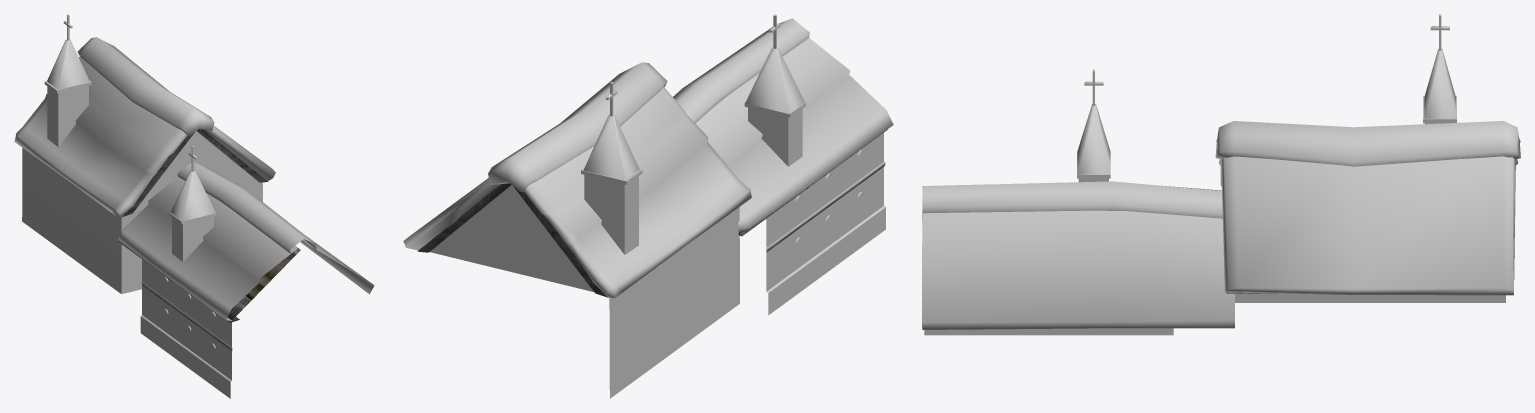
Rendered from fangzi_02.fbx.
The picture shows the model from 3 angles, left to right: view 1: azimuth 30°, elevation 25°; view 2: azimuth 150°, elevation 25°; view 3: azimuth 270°, elevation 25°; orthographic projection. The views are drawn at different scales.
Parts seen in each view (by area): view 1: xue1, qiang1, yancong, fangyan1; view 2: xue1, qiang1, yancong, fangyan1; view 3: xue1, qiang1, yancong.
Boxes of the visible parts, left/top/right/bottom form: xue1: left=14, top=14, right=374, bottom=381; qiang1: left=22, top=131, right=262, bottom=398; yancong: left=44, top=80, right=216, bottom=261; fangyan1: left=118, top=129, right=300, bottom=350; xue1: left=403, top=14, right=893, bottom=298; qiang1: left=430, top=133, right=885, bottom=398; yancong: left=581, top=102, right=805, bottom=254; fangyan1: left=417, top=129, right=887, bottom=297; xue1: left=922, top=14, right=1520, bottom=329; qiang1: left=924, top=293, right=1505, bottom=335; yancong: left=1077, top=96, right=1456, bottom=182.
Size of the model in its own units: 17.07 by 24.65 by 39.66.
